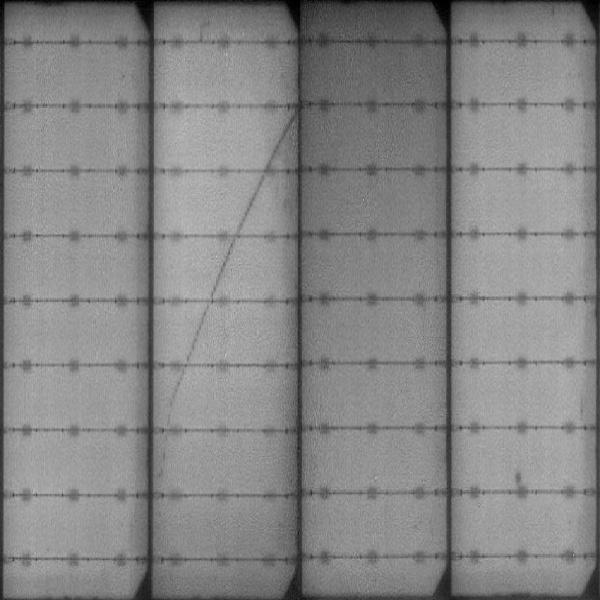scratch: (207, 238, 241, 299), (266, 109, 295, 170), (235, 172, 264, 233), (183, 301, 210, 362), (167, 367, 188, 427)
